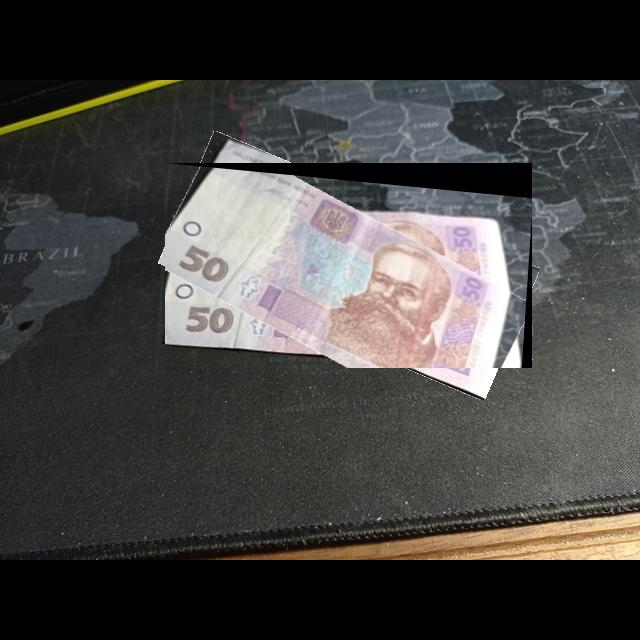50uah: (165, 163, 533, 369)
